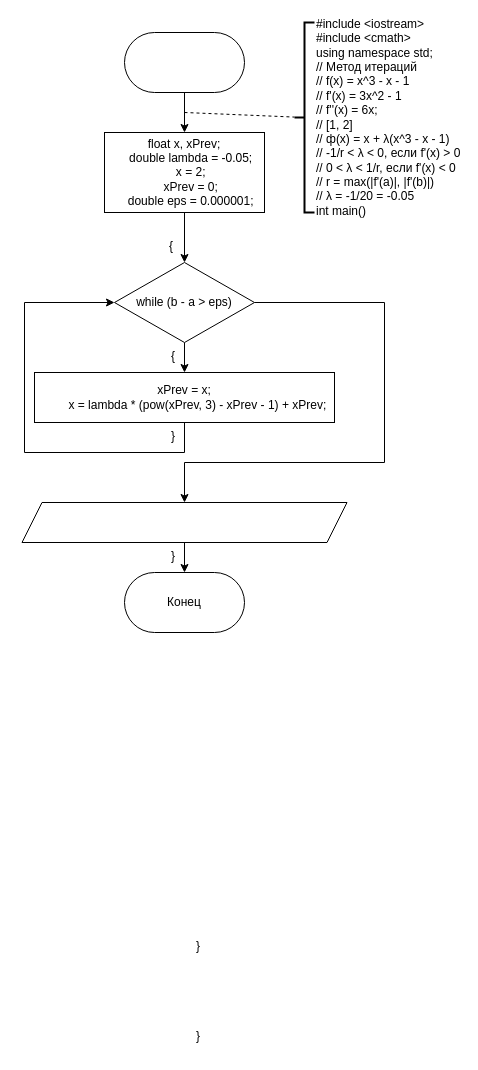
Some shapes in this 478 by 1070 pixel diagram are drawn without their labels. The centre of each missing label's shape, as x and y in pixels:
cout << "Корень по методу итераций: " << x << endl;: (x=184, y=522)
Начало: (x=184, y=62)
